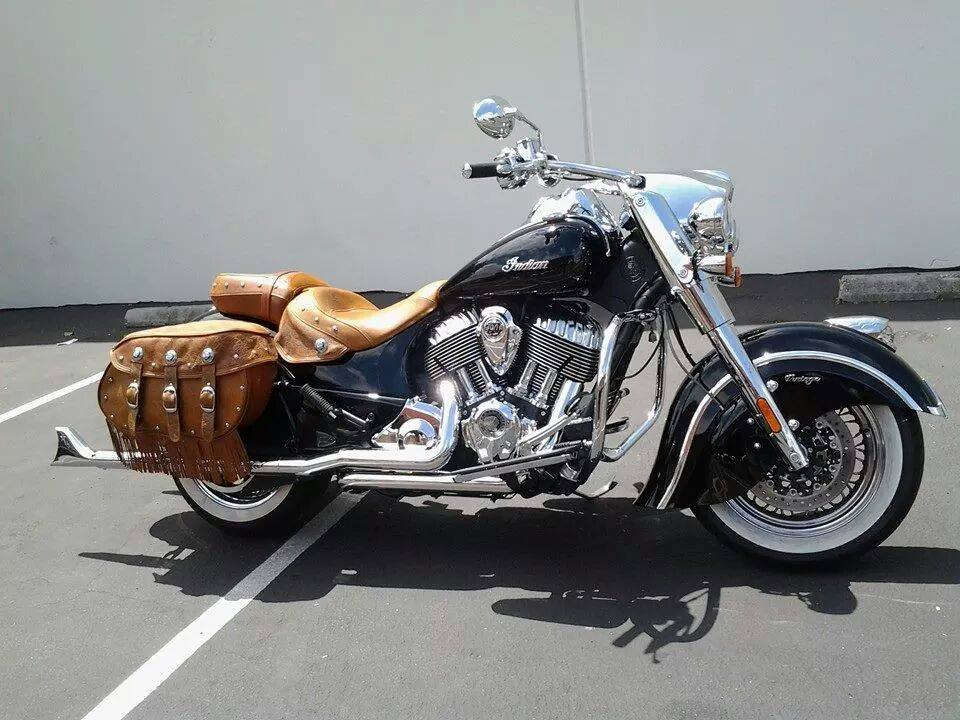Motor Cycle: (94, 99, 948, 562)
